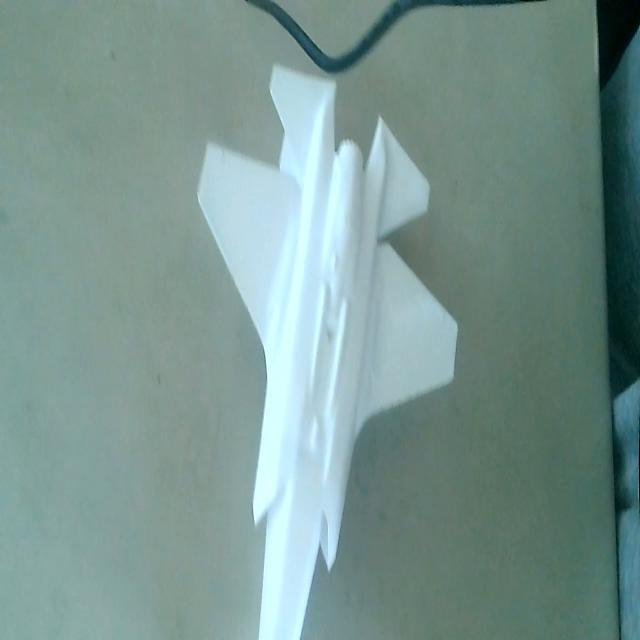Jet: (192, 61, 462, 640)
